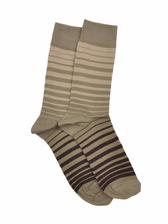sock: (34, 18, 145, 208)
